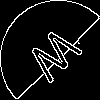W: (25, 25, 90, 91)
